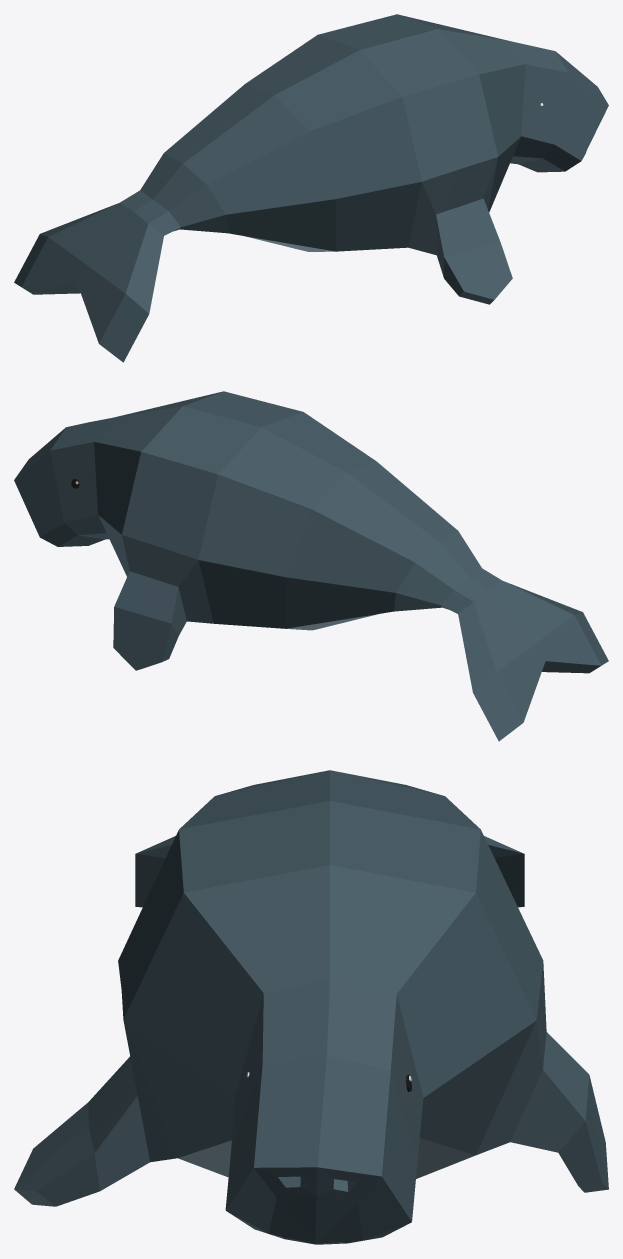
The model's file is manatee (1).obj.
3 renders of one model, top to bottom at view 1: azimuth 30°, elevation 25°; view 2: azimuth 150°, elevation 25°; view 3: azimuth 270°, elevation 25°, orthographic. The views are drawn at different scales.
Parts seen in each view (by area): view 1: Manatee_Circle.002; view 2: Manatee_Circle.002; view 3: Manatee_Circle.002.
Boxes of the visible parts, x1,y1,x2,y2 form: Manatee_Circle.002: (14,14,608,362); Manatee_Circle.002: (14,391,608,741); Manatee_Circle.002: (14,770,608,1244).
Bounding box in the file's own units: 22.14 × 8.18 × 12.01.
